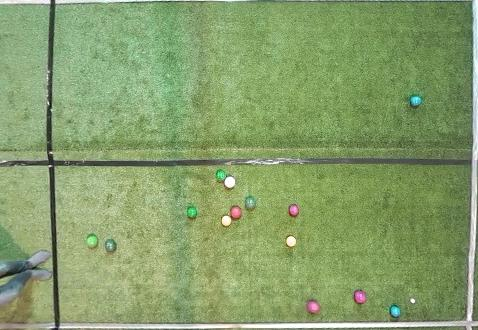blue: (410, 95, 422, 107), (390, 305, 401, 318)
green: (87, 234, 98, 248), (245, 196, 256, 209), (105, 240, 117, 251), (216, 170, 226, 181), (187, 207, 197, 217)
red: (230, 206, 243, 219), (224, 176, 236, 189), (307, 301, 320, 313), (355, 291, 366, 303), (289, 205, 300, 216)
vline: (1, 1, 62, 329), (463, 1, 477, 329)
white: (410, 298, 415, 304)
yellow: (286, 236, 296, 247), (221, 215, 231, 226)
